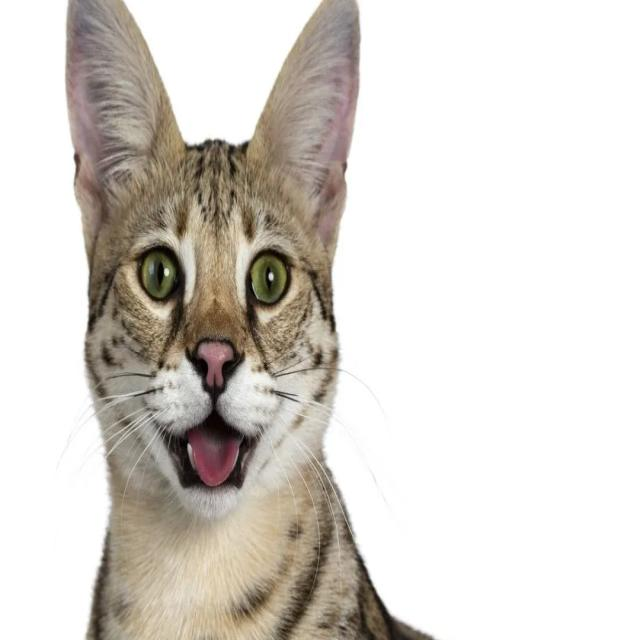Savannah: (61, 0, 507, 640)
